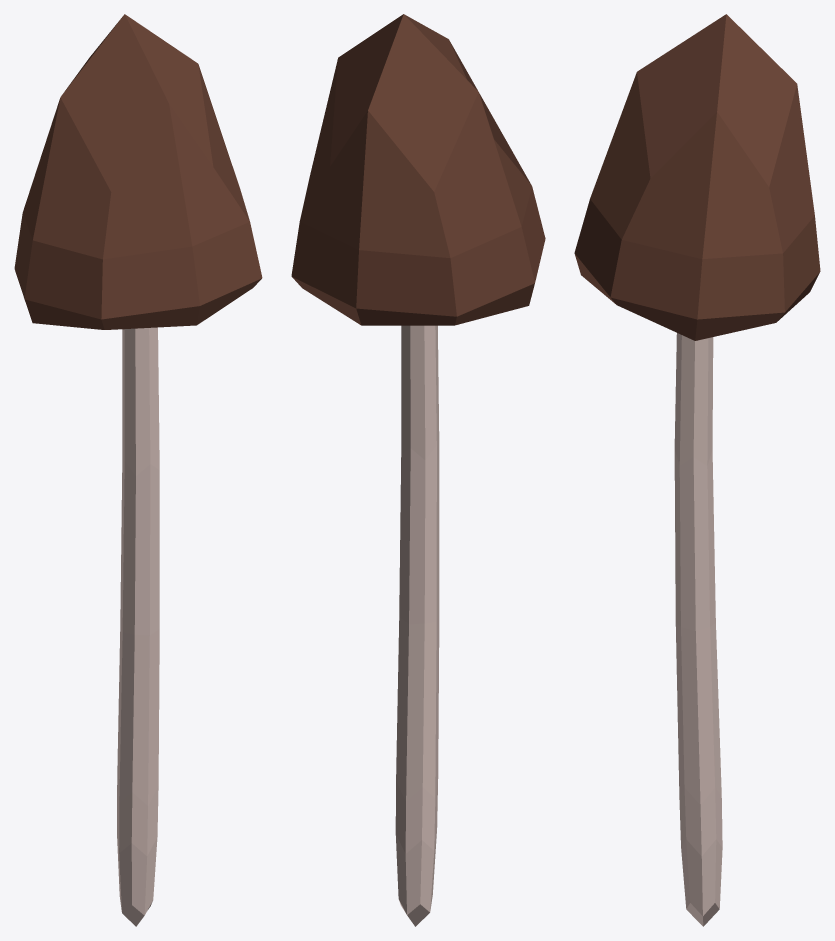
File: MUSH_LONG_BROWN.fbx
3 renders of one model, left to right at view 1: azimuth 30°, elevation 25°; view 2: azimuth 150°, elevation 25°; view 3: azimuth 270°, elevation 25°, orthographic.
Parts seen in each view (by area): view 1: pCube17, pCube18; view 2: pCube17, pCube18; view 3: pCube17, pCube18.
Part boxes in pixels (x1,y1,x2,y2): pCube17: (14,14,262,329); pCube18: (117,327,159,926); pCube17: (291,14,545,325); pCube18: (395,325,439,926); pCube17: (574,14,820,340); pCube18: (674,333,722,926).
Size of the model in its own units: 5.66 by 21.36 by 5.22.
